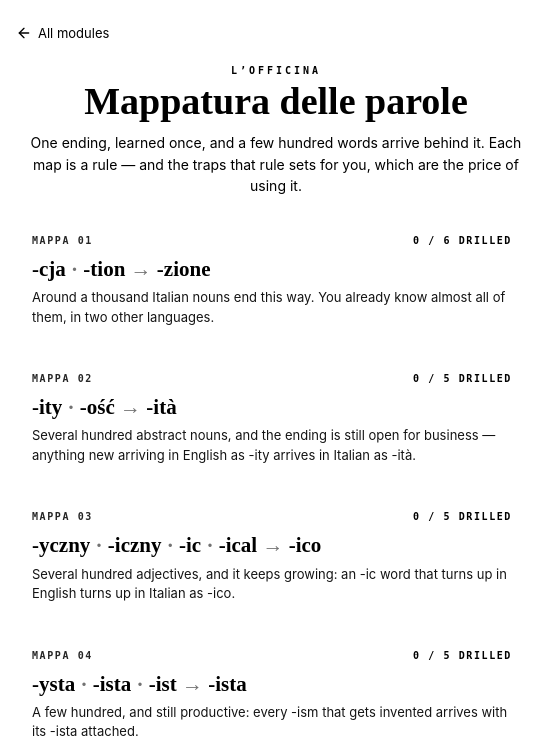
it: a mapping card › teaches the rule, both roads and the trap before drilling anything
Click the button "-cja" at (55, 240), box [16, 219, 536, 343]
(page scrolled)
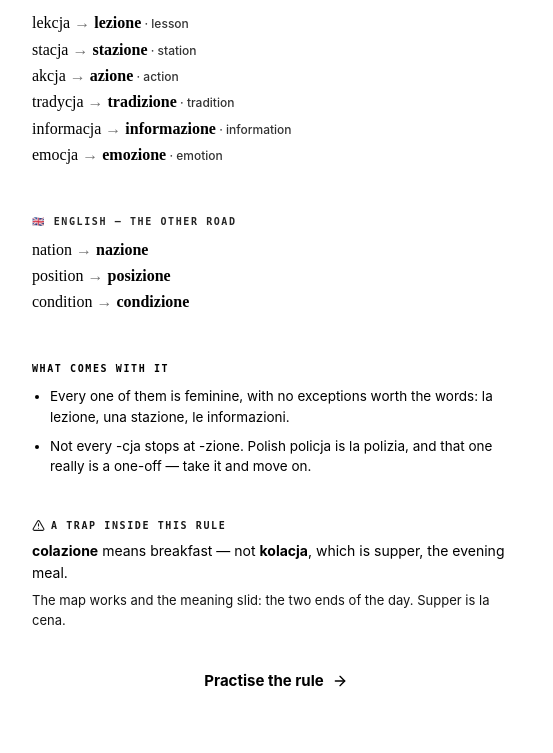
Expected: the text "🇬🇧 English — The other road" is shown, [32, 216, 237, 226]
Expected: the text "lezione" is shown, [94, 14, 141, 31]
Expected: the text "nazione" is shown, [96, 240, 148, 258]
